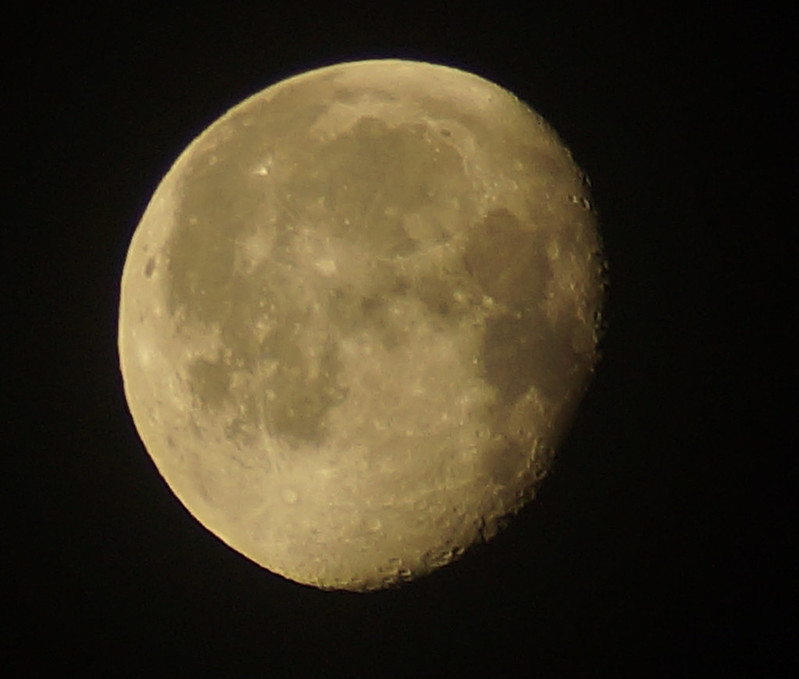crater: (460, 192, 568, 320), (248, 451, 325, 530), (136, 249, 176, 295), (304, 243, 348, 283), (248, 155, 286, 188), (364, 555, 418, 577), (356, 509, 395, 538), (470, 413, 492, 446), (430, 122, 461, 145), (267, 296, 290, 320), (285, 398, 302, 420)
